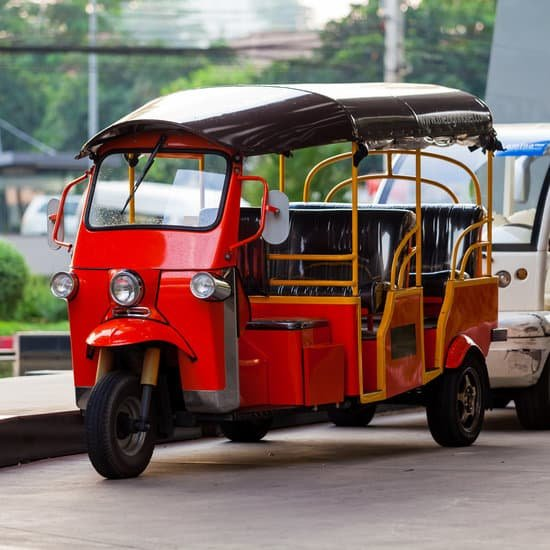threewheel: (50, 82, 509, 482)
